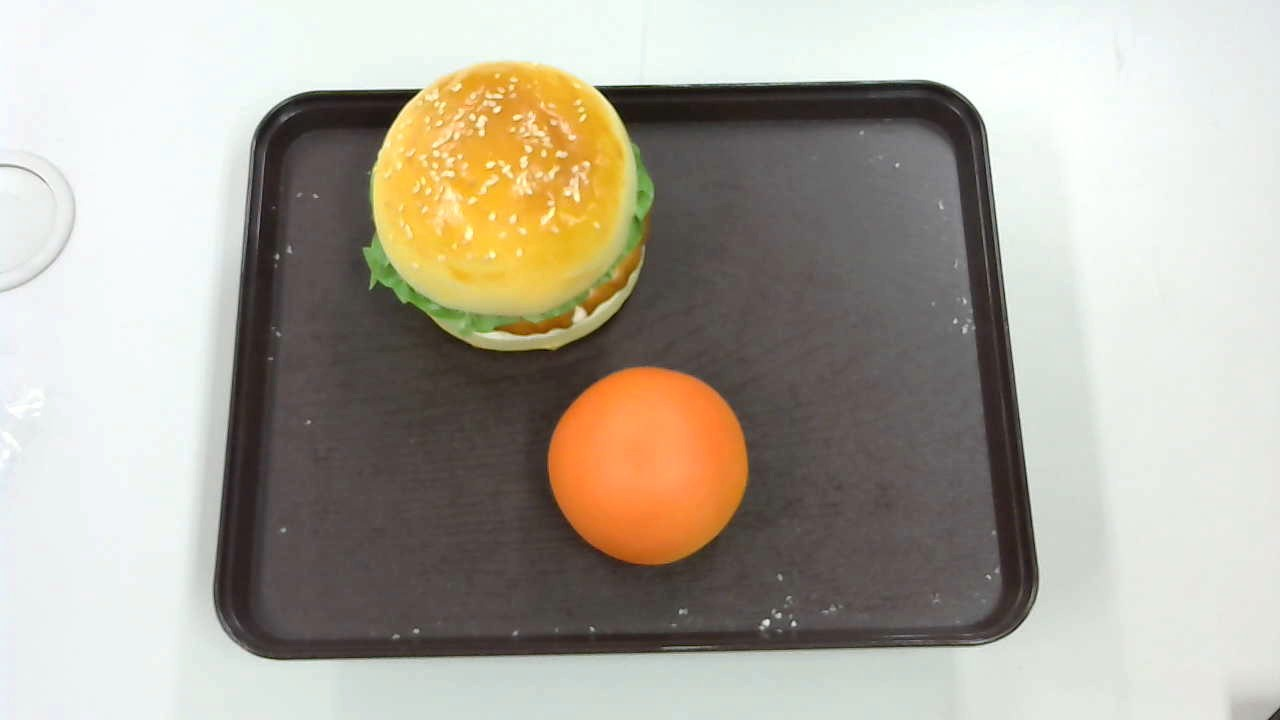bun: (548, 366, 749, 567)
hamburger: (361, 60, 656, 352)
